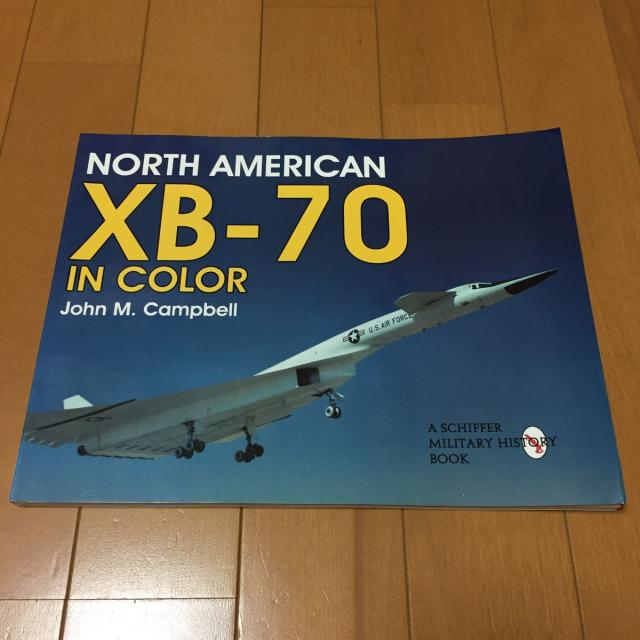MIL_Plane: (21, 260, 580, 463)
